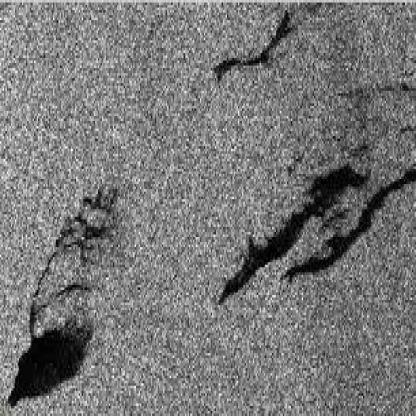oil: (208, 0, 415, 346), (2, 174, 130, 411)
